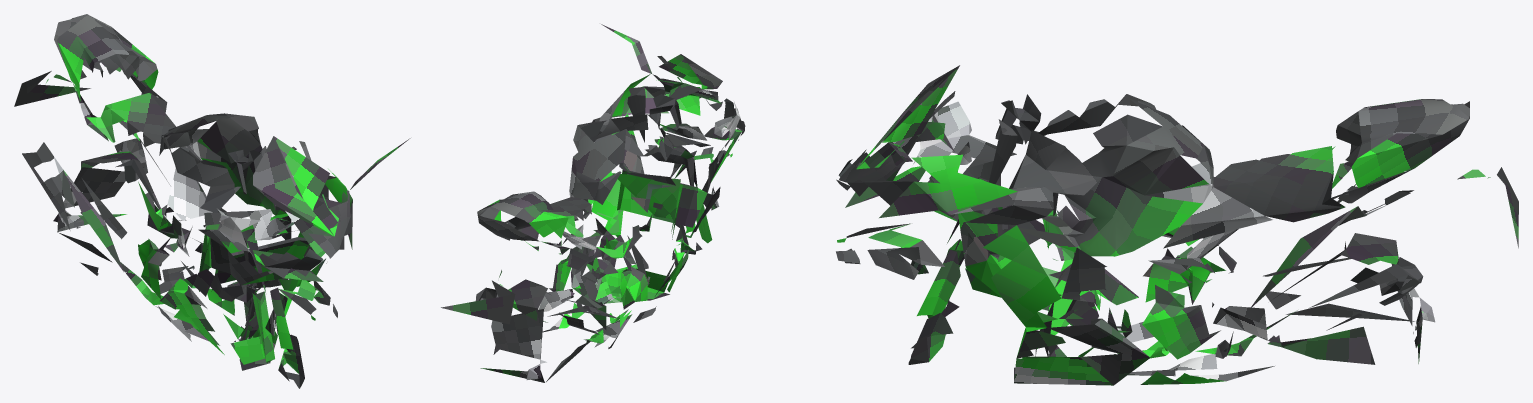
The model's file is kawaguchi_kamari_17.obj.
The picture shows the model from 3 angles, left to right: view 1: azimuth 30°, elevation 25°; view 2: azimuth 150°, elevation 25°; view 3: azimuth 270°, elevation 25°; orthographic projection. The views are drawn at different scales.
Parts seen in each view (by area): view 1: body; view 2: body; view 3: body.
Boxes of the visible parts, left/top/right/bottom form: body: left=14, top=14, right=410, bottom=388; body: left=441, top=24, right=745, bottom=382; body: left=836, top=65, right=1518, bottom=385.
Bounding box in the file's own units: 0.9089 × 1.01 × 1.99.
